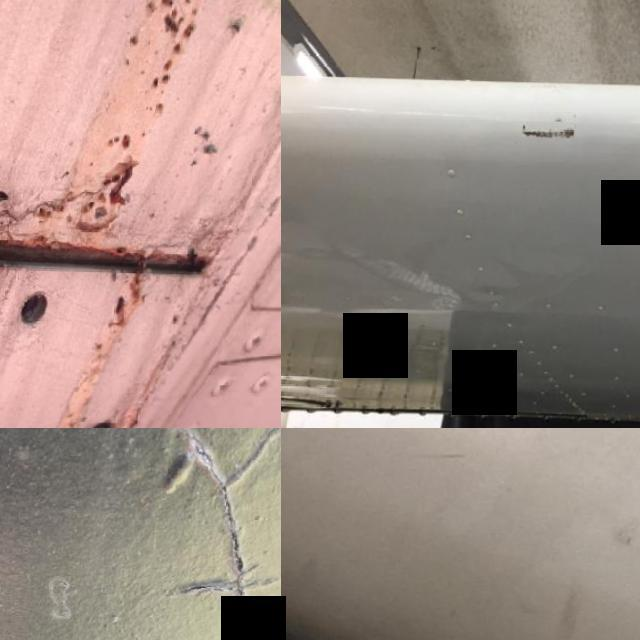Crack: (110, 428, 281, 640), (513, 106, 594, 170)
Missing_Fastener: (0, 261, 83, 353)
